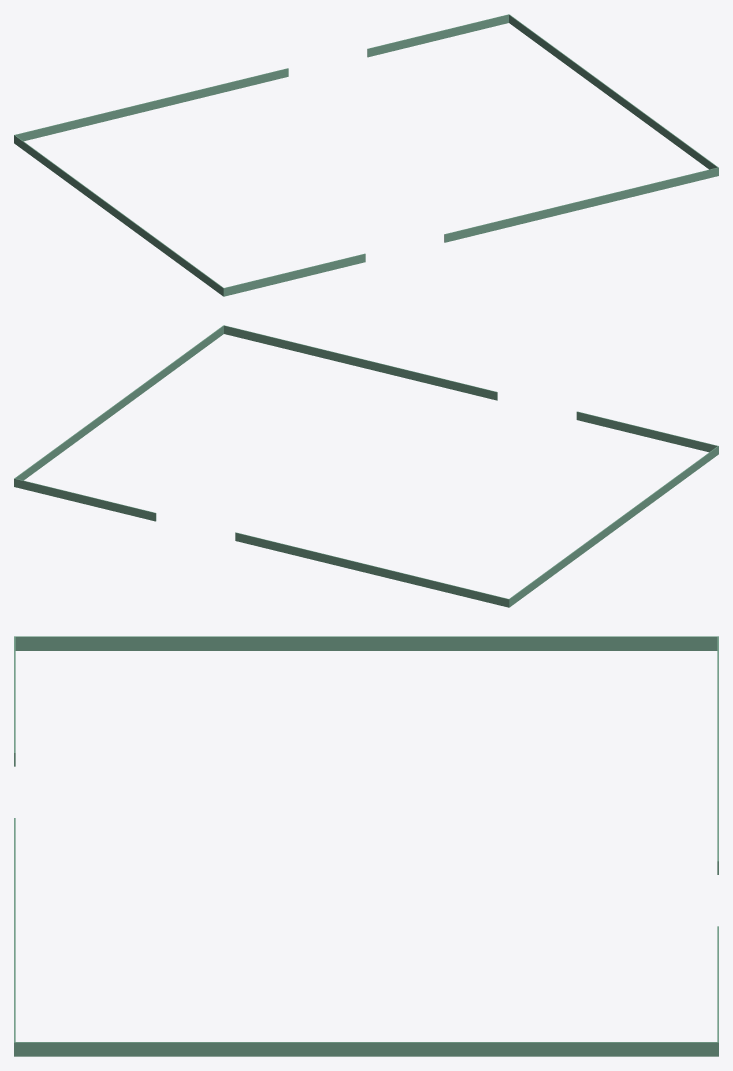
File: c_plan.glb
The picture shows the model from 3 angles, top to bottom: view 1: azimuth 30°, elevation 25°; view 2: azimuth 150°, elevation 25°; view 3: azimuth 270°, elevation 25°; orthographic projection. The views are drawn at different scales.
Visible parts, largest first — view 1: c_plan_tile_b; view 2: c_plan_tile_b; view 3: c_plan_tile_b.
Part boxes in pixels (x1=…): c_plan_tile_b: x1=14, y1=14, x2=718, y2=296; c_plan_tile_b: x1=14, y1=325, x2=718, y2=607; c_plan_tile_b: x1=14, y1=636, x2=718, y2=1056.
Bounding box in the file's own units: 7.5 × 0.12 × 5.5.
